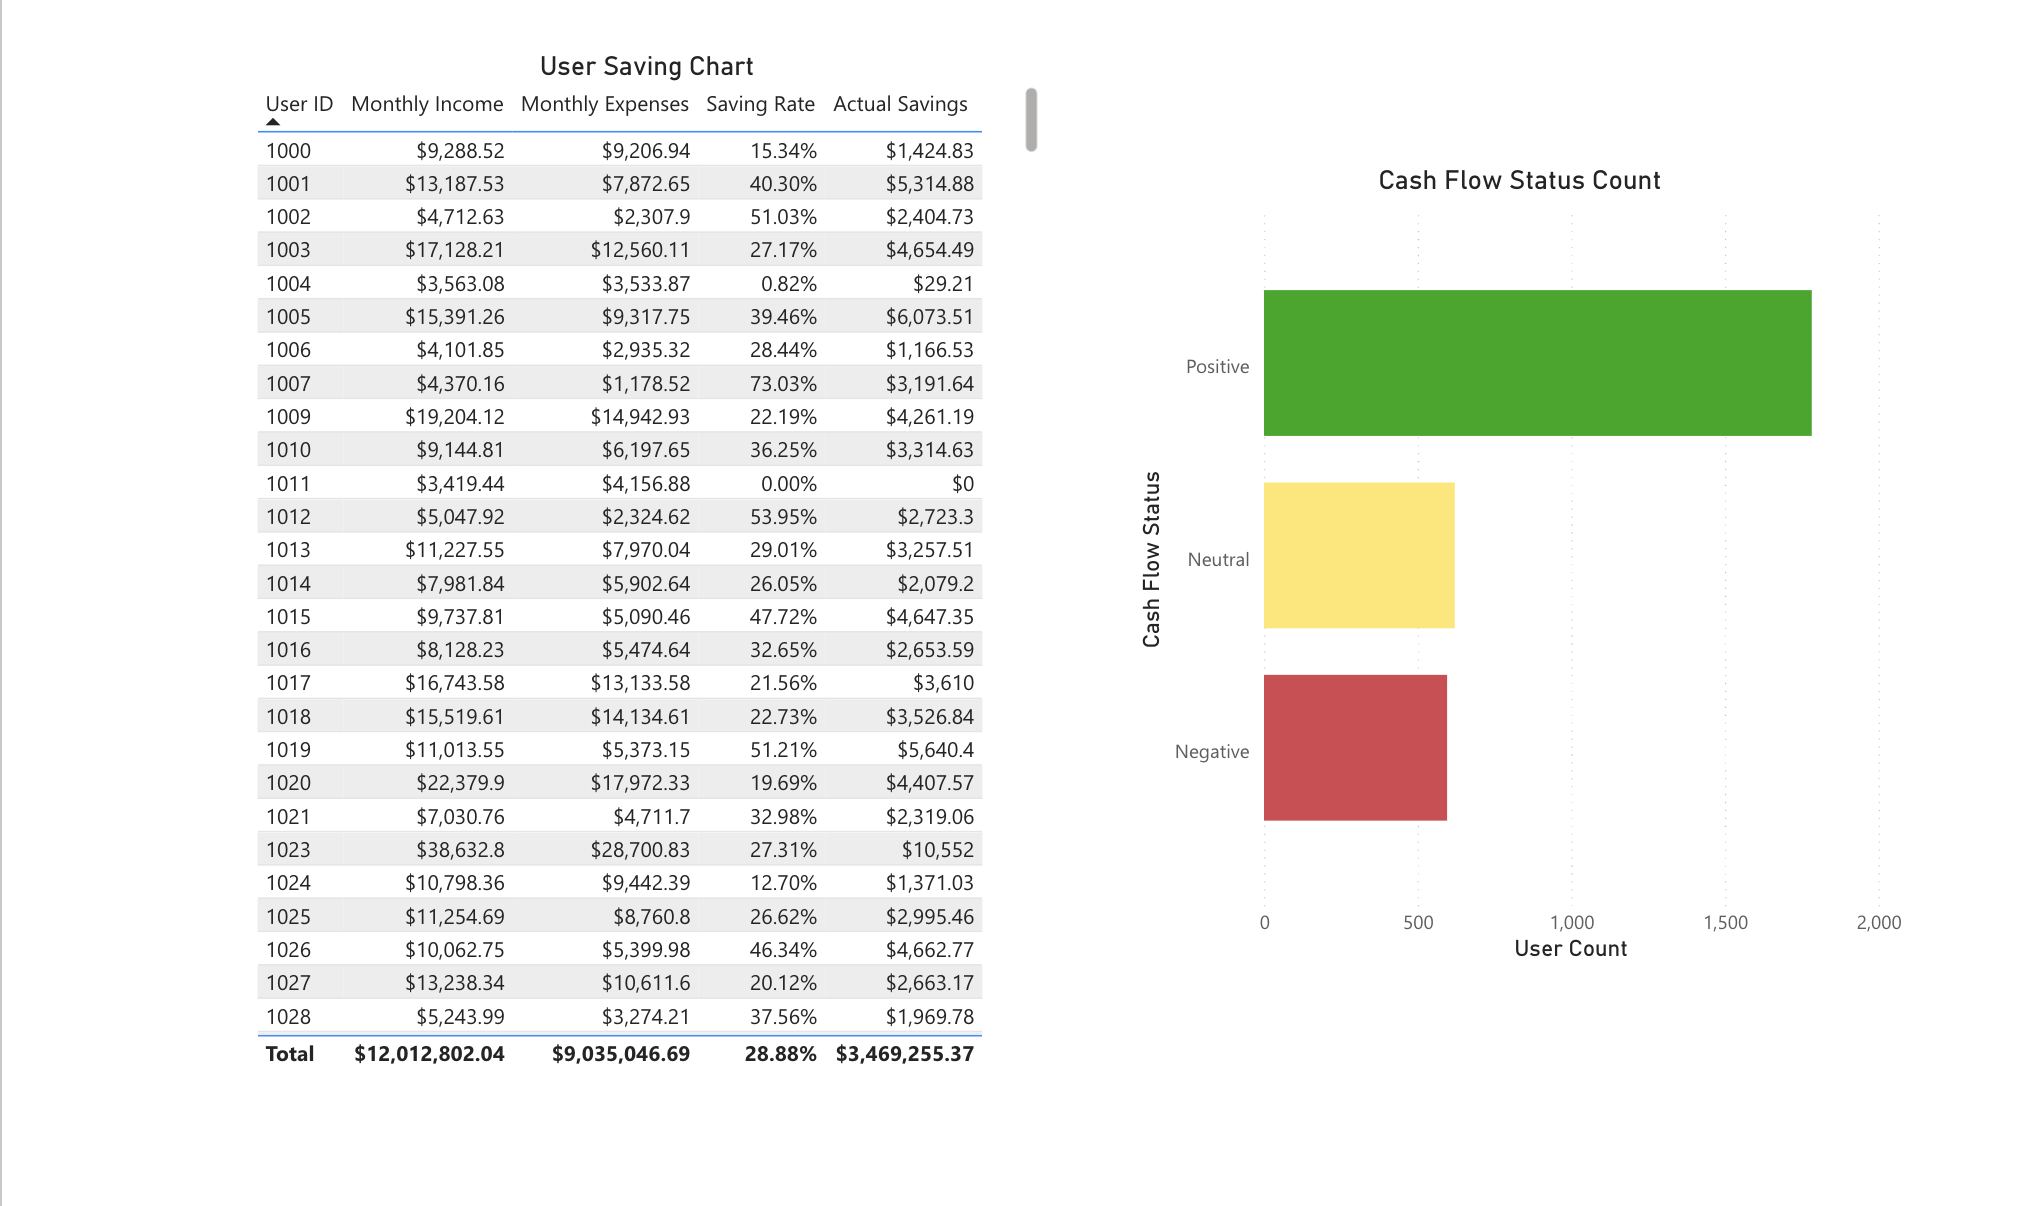

Layout of this report page (visuals, bound fields, positions):
{"tool":"powerbi","page":{"name":"Page 2","canvas":[1280,720],"ordinal":1},"visuals":[{"type":"tableEx","title":"User Saving Chart","fields":{"Values":["personal_finance_tracker_dataset 1.user_id","Sum(personal_finance_tracker_dataset 1.monthly_income)","Sum(personal_finance_tracker_dataset 1.monthly_expense_total)","personal_finance_tracker_dataset 1.Saving Rate","Sum(personal_finance_tracker_dataset 1.actual_savings)"]},"box":[155.1,36.9,503.4,644.4],"z":0},{"type":"clusteredBarChart","title":"Cash Flow Status Count","fields":{"Category":["personal_finance_tracker_dataset 1.cash_flow_status"],"Y":["CountNonNull(personal_finance_tracker_dataset 1.user_id)"]},"box":[711.8,108,491.9,504.6],"z":1}]}

Visuals, with their boxes on the page's 1280x720 design canvas (x1, y1, x2, y2). These are canvas units, not pixel positions in the 2020x1206 screenshot, which may show the page scaled, cropped or inside an application window:
"User Saving Chart" tableEx: select_region(155, 37, 658, 681)
"Cash Flow Status Count" clusteredBarChart: select_region(712, 108, 1204, 613)
